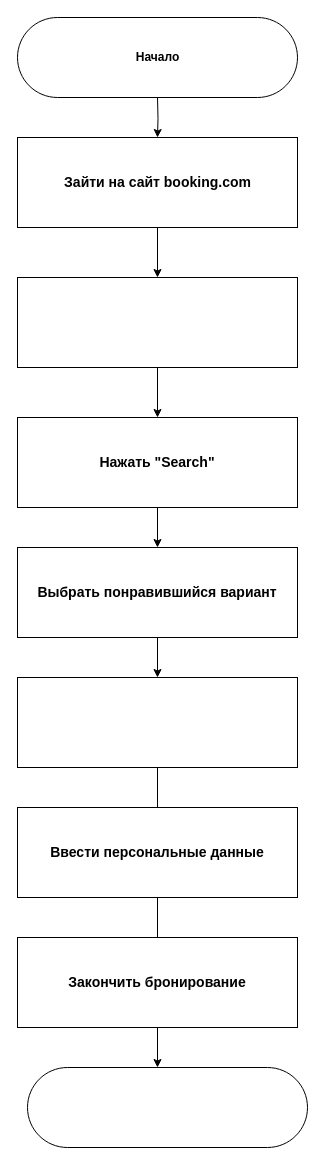
This 325x1165 diagram has some shape labels left out. The shapes that lost their labels are listed below. From the top down, each one's box as (x1, y1, x2, y2) in pixels, then its label:
(16, 276, 298, 368): Выбрать месторасположение дату и время
(16, 676, 298, 768): Нажать "Reserve"
(26, 1066, 308, 1148): Конец
